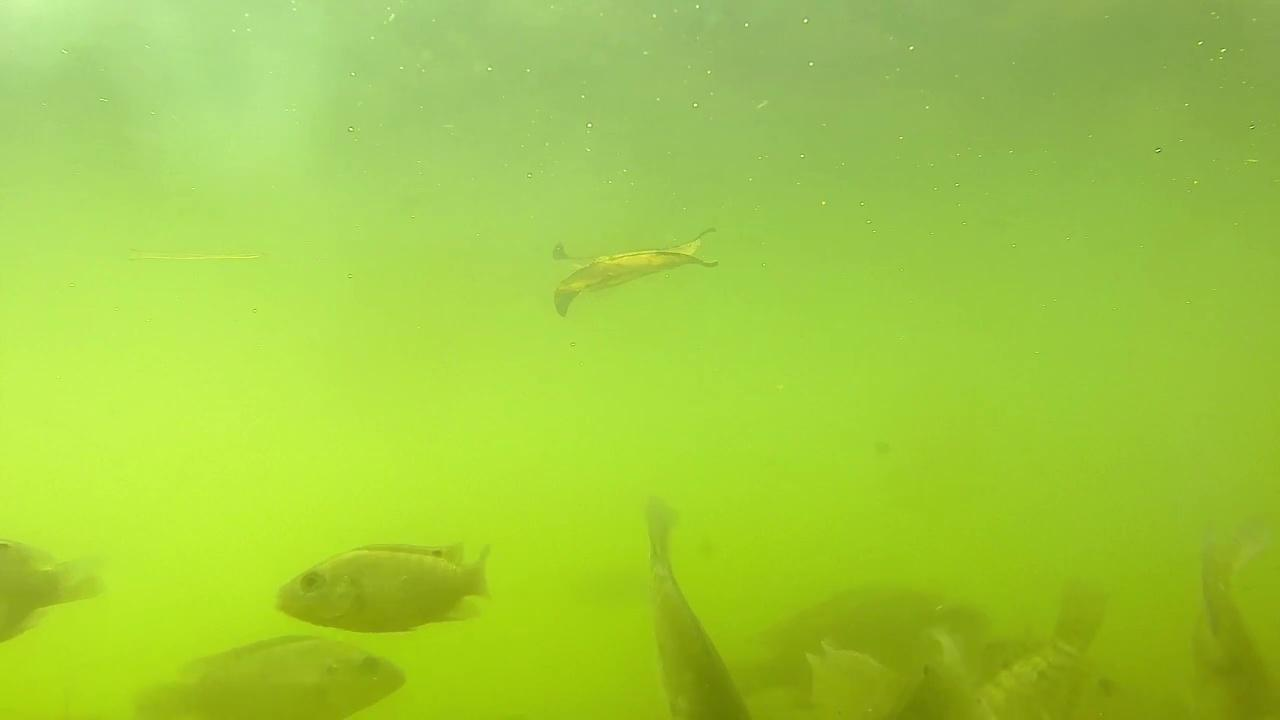Tilapia: (149, 628, 415, 720), (276, 540, 499, 628)
